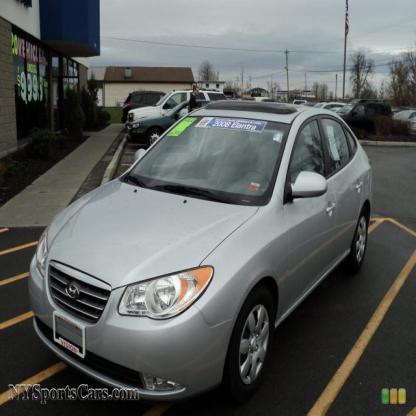car: (1, 88, 416, 401), (128, 89, 210, 148), (339, 100, 394, 136), (121, 91, 168, 125), (391, 109, 416, 137), (312, 104, 348, 117)
